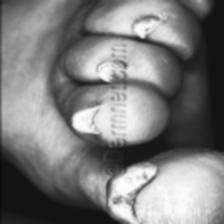Toxin: (110, 162, 214, 224), (130, 19, 172, 43)
